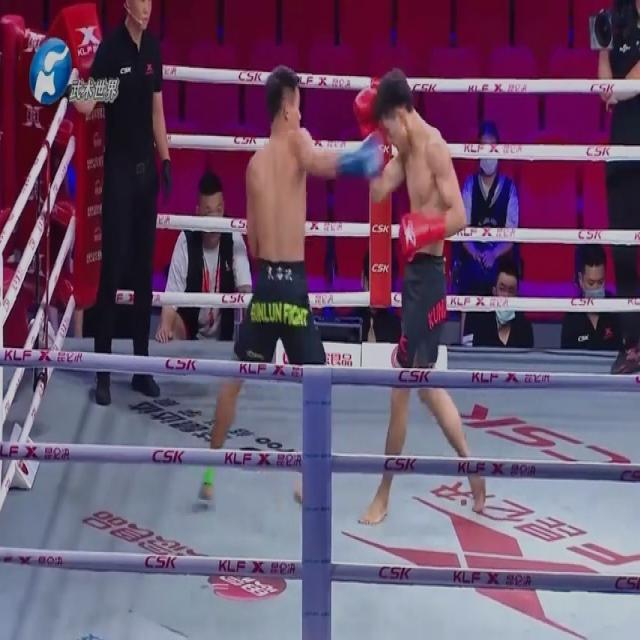fight: (211, 62, 479, 530)
non-fight: (37, 0, 183, 424)
